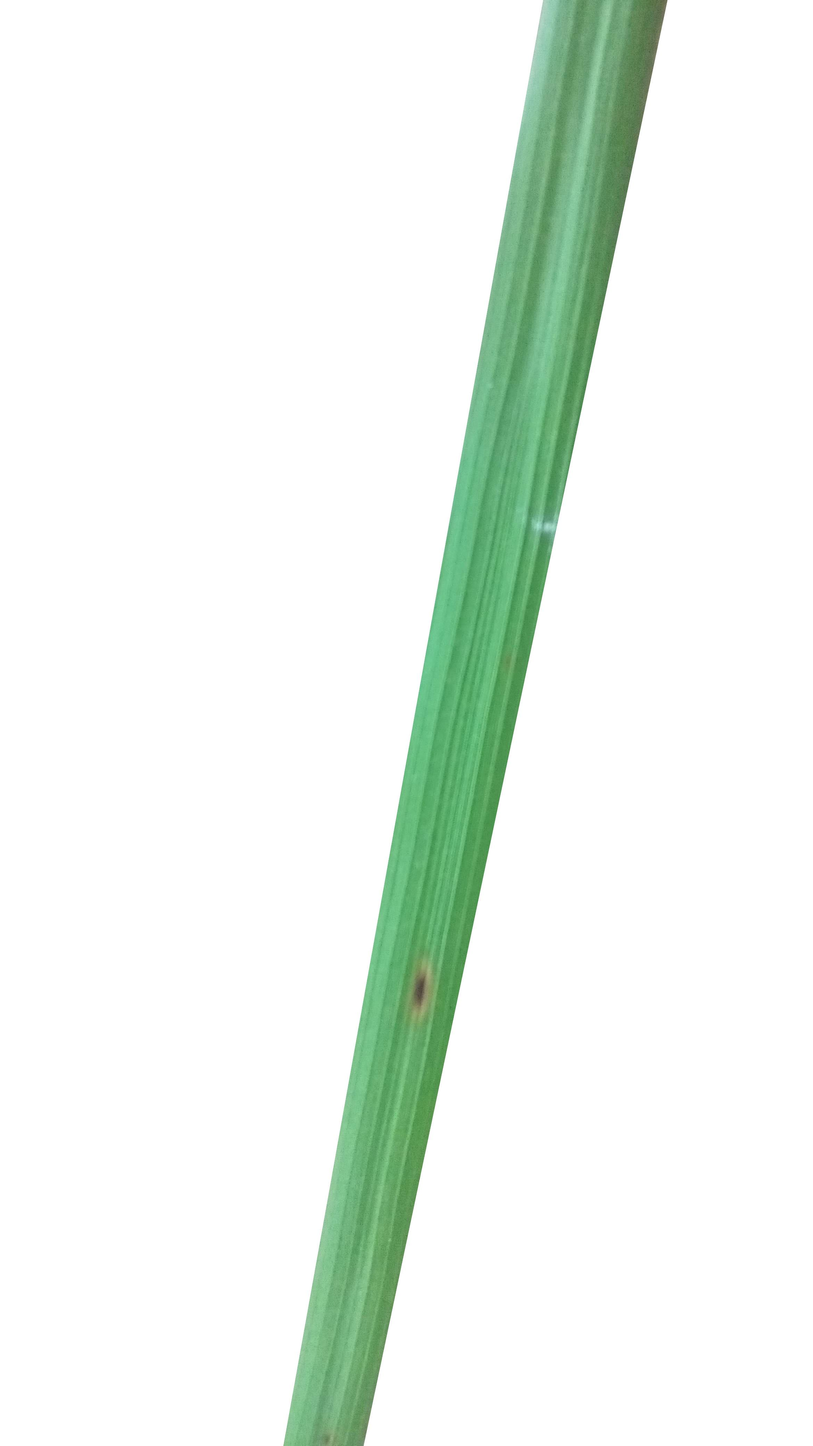Brown spot: (389, 963, 441, 1025)
